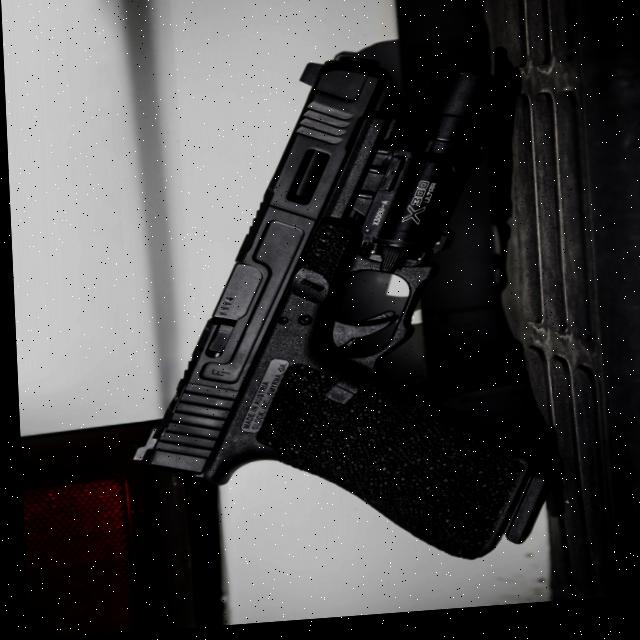pistol: (110, 44, 549, 589)
